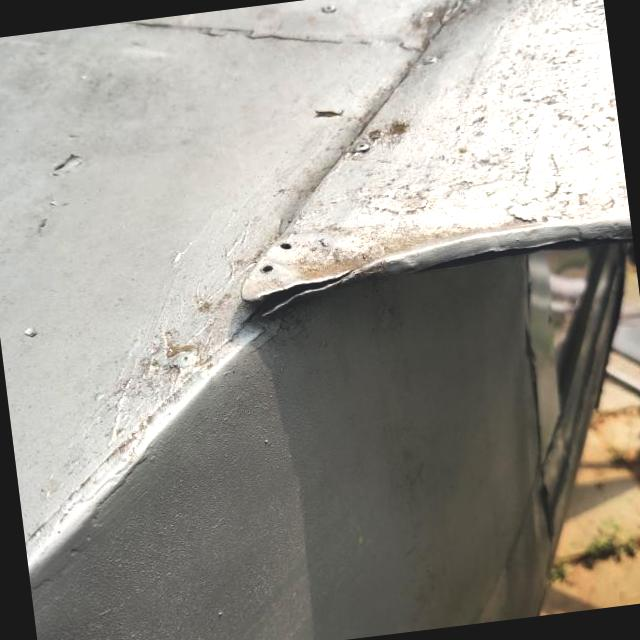Missing Fastener: (269, 232, 304, 260), (252, 261, 278, 280)
